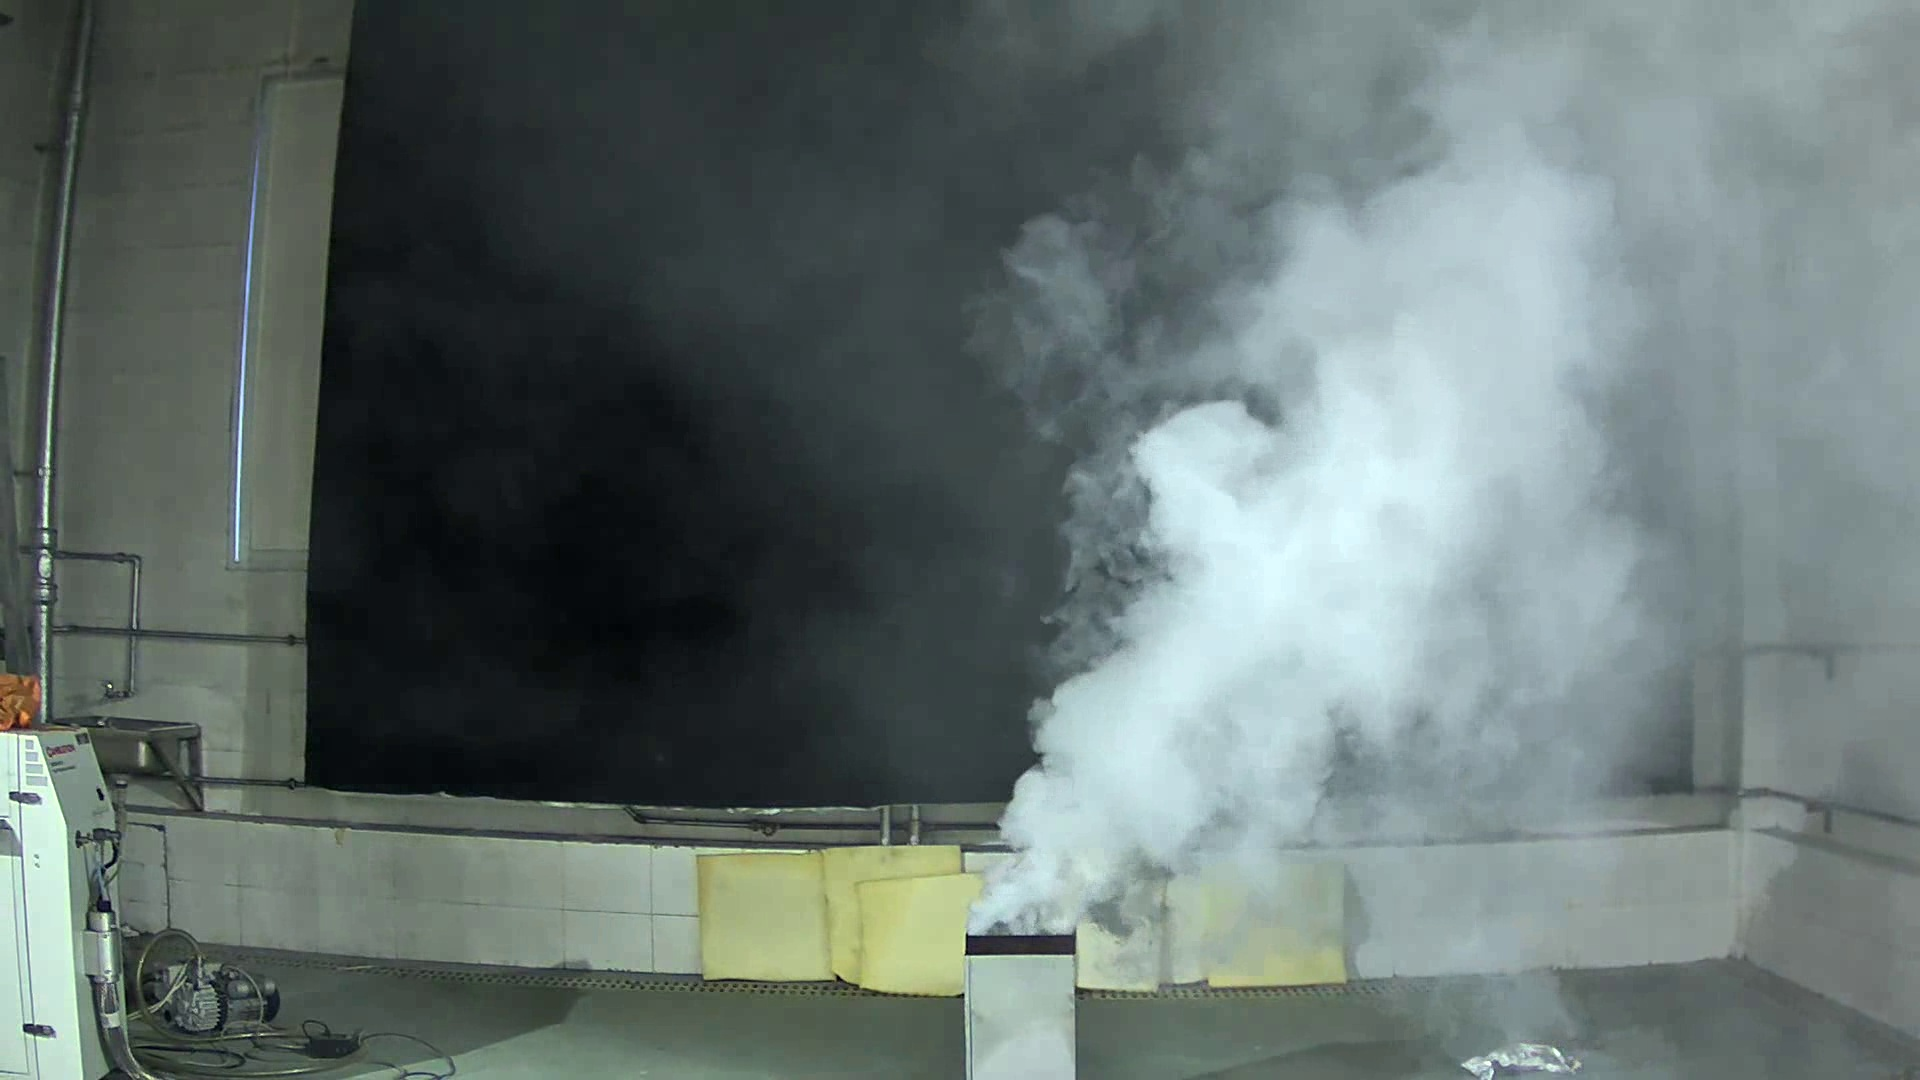smoke: (969, 95, 1698, 928)
